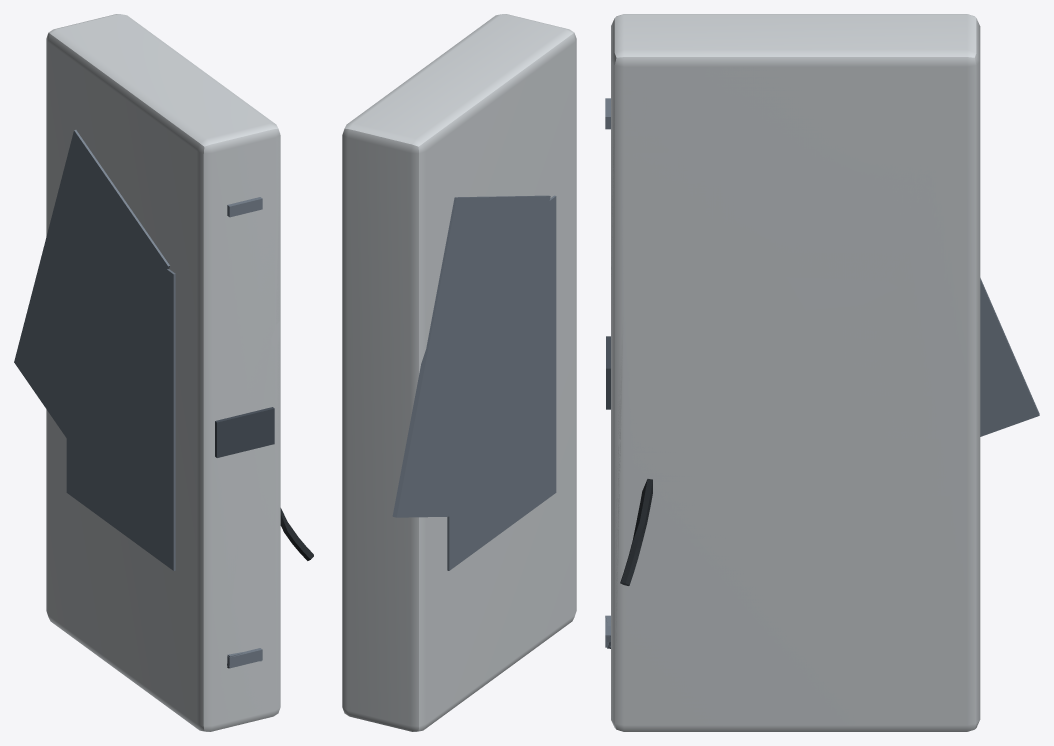
The model's file is shr_cmp_generic_panel_polymer_b.glb.
3 views of the same model, side by side, from view 1: azimuth 30°, elevation 25°; view 2: azimuth 150°, elevation 25°; view 3: azimuth 270°, elevation 25° (orthographic). The views are drawn at different scales.
Parts seen in each view (by area): view 1: mesh_heavy, mesh_intact; view 2: mesh_heavy, mesh_intact; view 3: mesh_heavy, mesh_intact.
Boxes of the visible parts, x1,y1,x2,y2 form: mesh_heavy: (14, 14, 313, 731); mesh_intact: (66, 136, 280, 725); mesh_heavy: (342, 14, 576, 731); mesh_intact: (447, 195, 556, 570); mesh_heavy: (606, 14, 1039, 731); mesh_intact: (605, 63, 967, 725).
Size of the model in its own units: 0.2322 by 1.1 by 0.6346.
